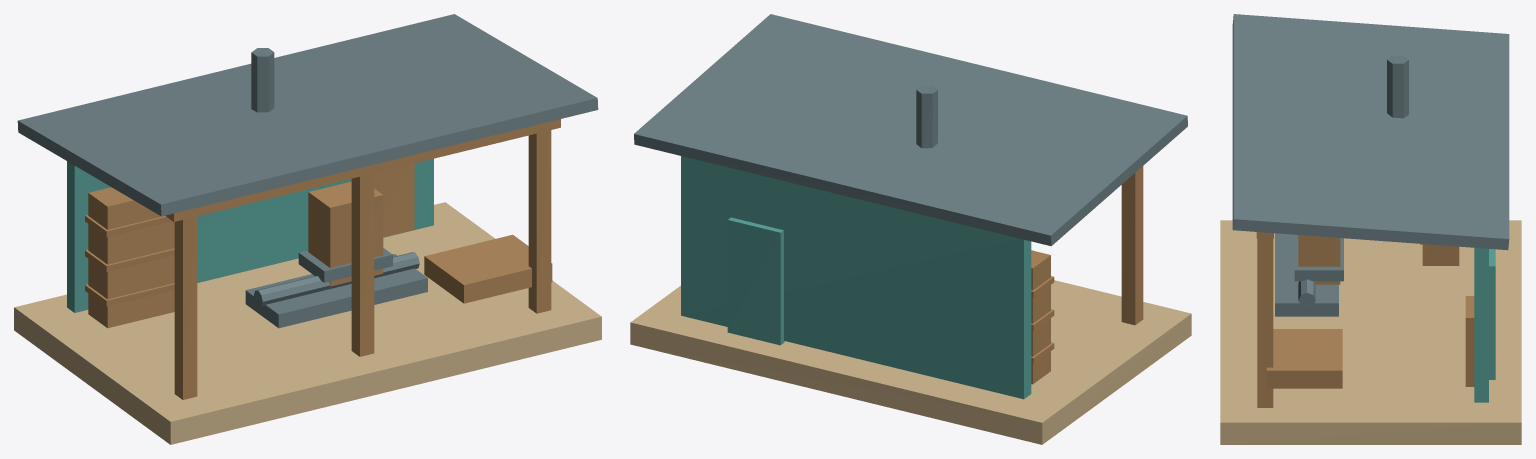
File: Packaging-House.glb
The picture shows the model from 3 angles, left to right: view 1: azimuth 30°, elevation 25°; view 2: azimuth 150°, elevation 25°; view 3: azimuth 270°, elevation 25°; orthographic projection. The views are drawn at different scales.
Visible parts, largest first — view 1: wind-pump-static-packaging-house-galvanized-surfaces, wind-pump-static-packaging-house-concrete-base, wind-pump-static-packaging-house-warm-timber, wind-pump-static-packaging-house-pale-insulated-panels, wind-pump-static-packaging-house-dark-iron, wind-pump-static-packaging-house-muted-teal-machine; view 2: wind-pump-static-packaging-house-galvanized-surfaces, wind-pump-static-packaging-house-pale-insulated-panels, wind-pump-static-packaging-house-concrete-base, wind-pump-static-packaging-house-warm-timber, wind-pump-static-packaging-house-dark-iron; view 3: wind-pump-static-packaging-house-galvanized-surfaces, wind-pump-static-packaging-house-concrete-base, wind-pump-static-packaging-house-warm-timber, wind-pump-static-packaging-house-dark-iron, wind-pump-static-packaging-house-pale-insulated-panels, wind-pump-static-packaging-house-muted-teal-machine.
Boxes of the visible parts, x1,y1,x2,y2 form: wind-pump-static-packaging-house-galvanized-surfaces: (17,14,598,306); wind-pump-static-packaging-house-concrete-base: (14,202,601,444); wind-pump-static-packaging-house-warm-timber: (85,119,560,399); wind-pump-static-packaging-house-pale-insulated-panels: (67,158,433,312); wind-pump-static-packaging-house-dark-iron: (245,48,427,328); wind-pump-static-packaging-house-muted-teal-machine: (308,163,414,286); wind-pump-static-packaging-house-galvanized-surfaces: (634,14,1187,246); wind-pump-static-packaging-house-pale-insulated-panels: (681,156,1031,399); wind-pump-static-packaging-house-concrete-base: (630,280,1191,444); wind-pump-static-packaging-house-warm-timber: (1031,166,1143,384); wind-pump-static-packaging-house-dark-iron: (916,85,937,148); wind-pump-static-packaging-house-galvanized-surfaces: (1232,14,1509,308); wind-pump-static-packaging-house-concrete-base: (1220,220,1521,444); wind-pump-static-packaging-house-warm-timber: (1256,232,1459,407); wind-pump-static-packaging-house-dark-iron: (1275,55,1408,316); wind-pump-static-packaging-house-pale-insulated-panels: (1474,247,1495,402); wind-pump-static-packaging-house-muted-teal-machine: (1298,235,1474,386).
Size of the model in its own units: 3.95 by 2.42 by 2.45.
